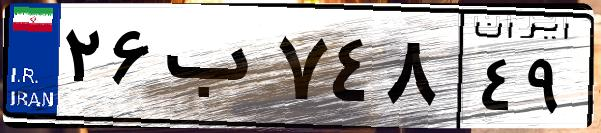2: (57, 26, 110, 100)
4: (330, 28, 385, 110), (475, 38, 525, 113)
6: (110, 28, 158, 98)
7: (270, 28, 330, 110)
8: (385, 28, 445, 110)
9: (525, 38, 570, 115)
ب: (158, 20, 270, 120)
